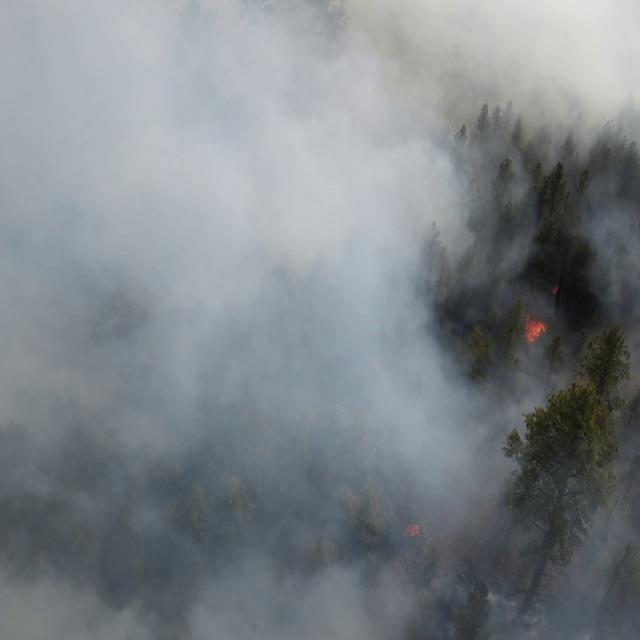fire: (524, 310, 547, 344), (400, 522, 423, 542), (550, 284, 560, 295)
smoke: (0, 0, 509, 640), (509, 0, 640, 376), (509, 447, 640, 640), (508, 377, 538, 447), (611, 377, 640, 447)
